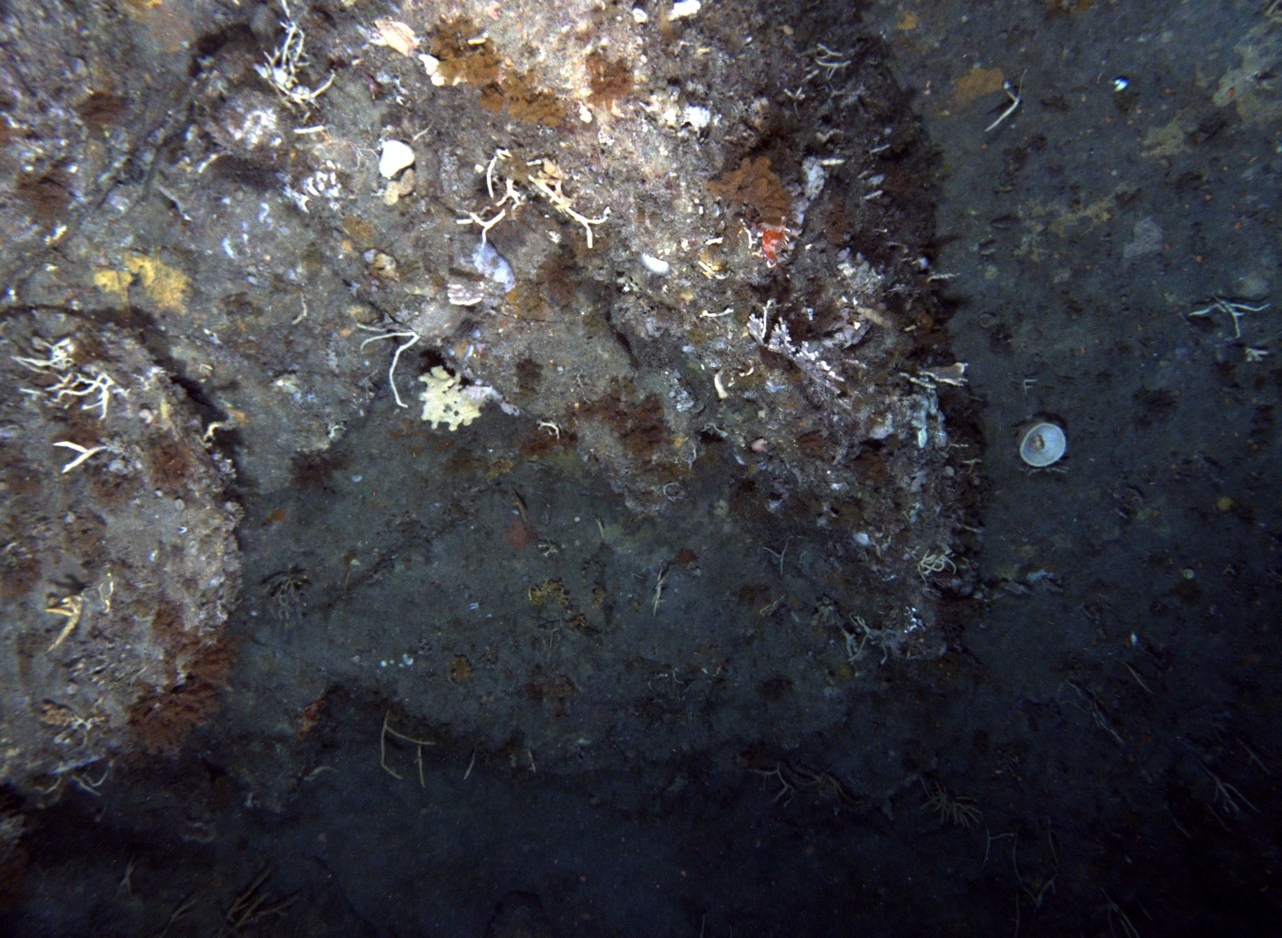Brachionichthyidae: (356, 69, 389, 100)
